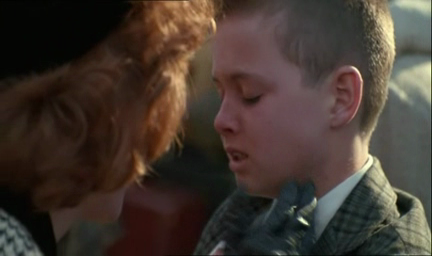cu: (1, 1, 432, 256)
face: (211, 42, 301, 198)
ots: (1, 1, 218, 256)
person: (190, 1, 432, 256)
